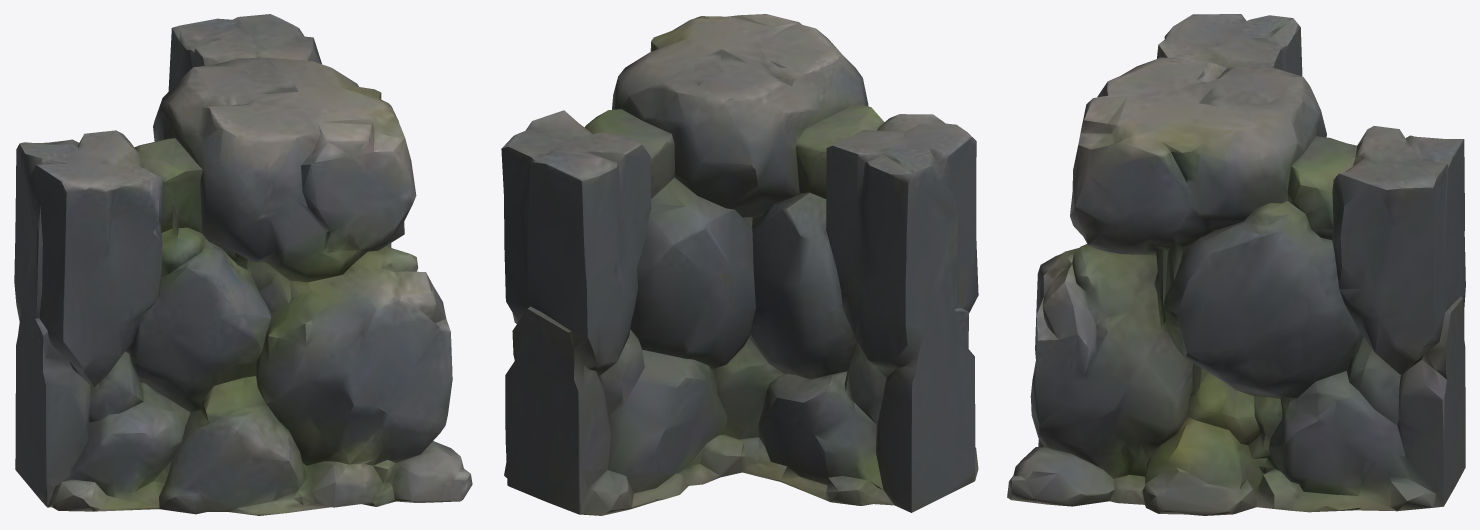
File: cueva_pared.glb
3 renders of one model, left to right at view 1: azimuth 30°, elevation 25°; view 2: azimuth 150°, elevation 25°; view 3: azimuth 270°, elevation 25°, orthographic. The views are drawn at different scales.
Parts seen in each view (by area): view 1: cueva_pared_malla; view 2: cueva_pared_malla; view 3: cueva_pared_malla.
Part boxes in pixels (left/top/right/bottom): cueva_pared_malla: left=14, top=14, right=472, bottom=515; cueva_pared_malla: left=501, top=14, right=978, bottom=515; cueva_pared_malla: left=1007, top=14, right=1465, bottom=515.
Size of the model in its own units: 0.3351 by 0.322 by 0.3704.
Materials: 1 (1 with a texture image).
